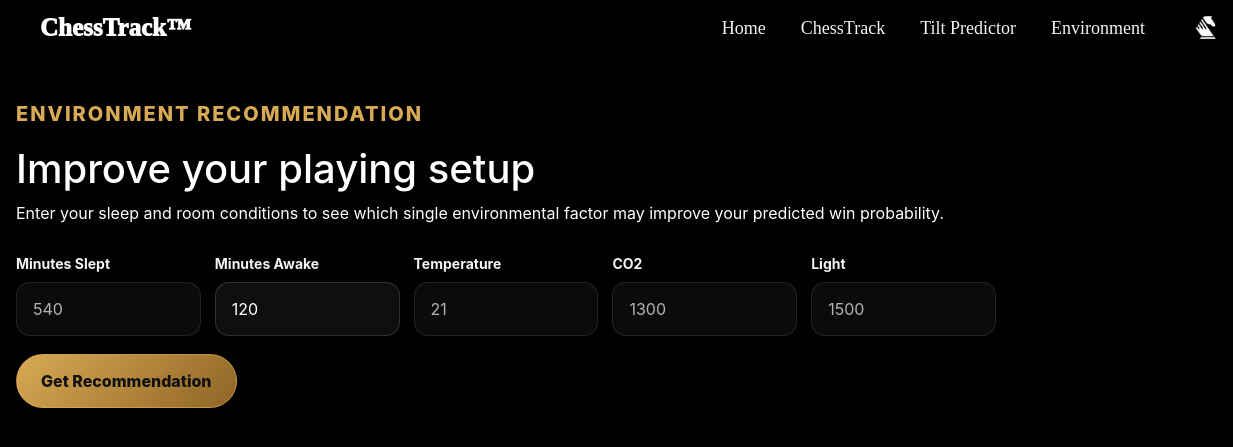
EnvironmentRecommendation — ML API flow › shows FastAPI detail errors from recommendation endpoint
This screenshot has width=1233, height=447.
Click the button "Get Recommendation": click(126, 381) [16, 354, 236, 408]
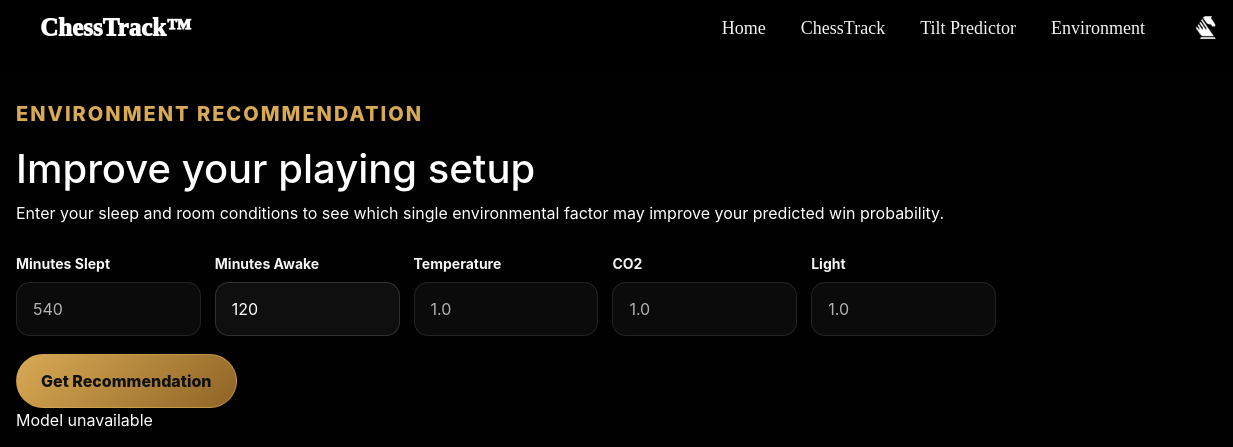
Result: the text "Model unavailable" is shown at [16, 410, 153, 430]
